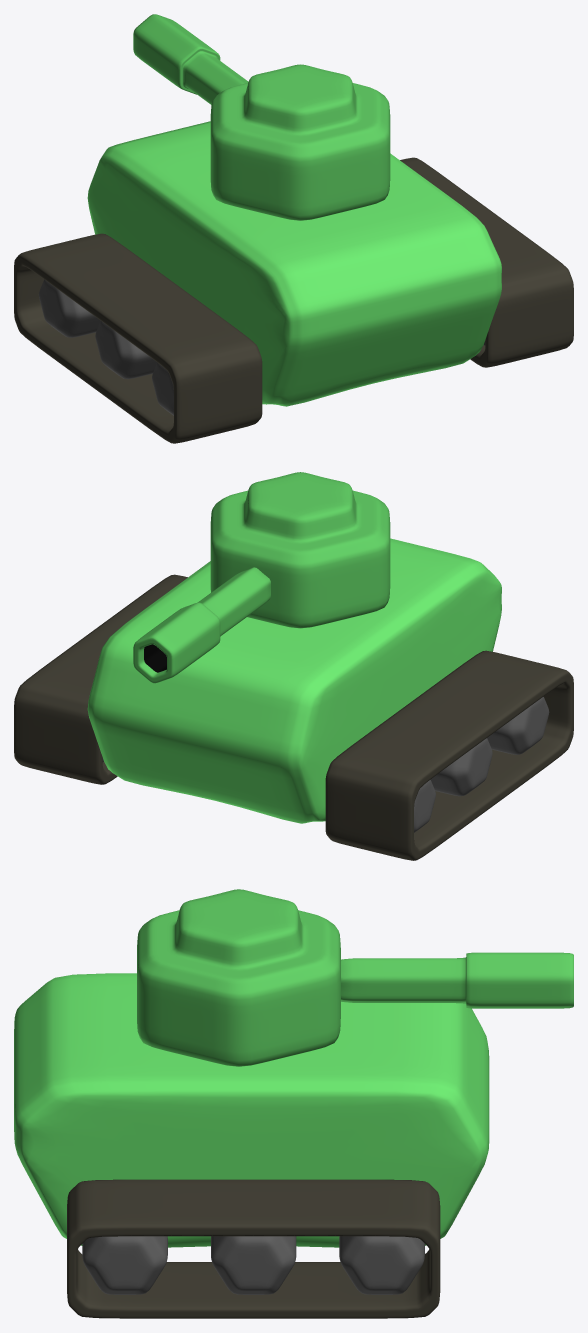
The model's file is Tank.fbx.
The picture shows the model from 3 angles, top to bottom: view 1: azimuth 30°, elevation 25°; view 2: azimuth 150°, elevation 25°; view 3: azimuth 270°, elevation 25°; orthographic projection. The views are drawn at different scales.
Visible parts, largest first — view 1: Tank, Cannon; view 2: Tank, Cannon; view 3: Tank, Cannon.
Part boxes in pixels (x1,y1,x2,y2): Tank: [14, 121, 573, 443]; Cannon: [133, 14, 390, 220]; Tank: [14, 538, 573, 860]; Cannon: [133, 472, 390, 683]; Tank: [14, 973, 489, 1318]; Cannon: [137, 889, 573, 1066].
Size of the model in its own units: 2028 by 1271 by 2179.
